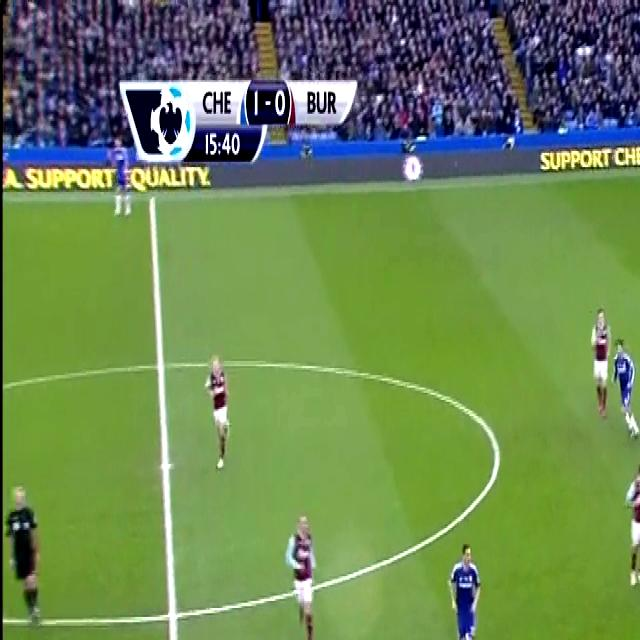referee: (1, 458, 53, 630)
soccer-player: (280, 508, 327, 640), (201, 350, 236, 478), (442, 531, 482, 640), (582, 300, 614, 425), (106, 130, 141, 224), (611, 331, 640, 439), (621, 457, 640, 595)
